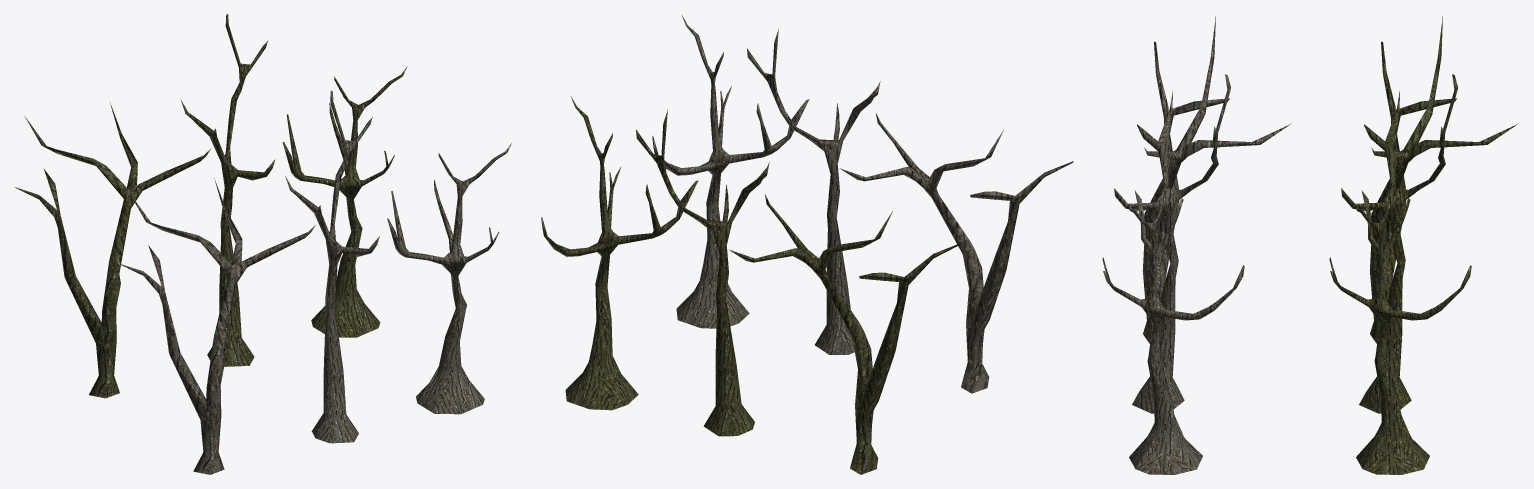
File: psx_dead_tree_pack.glb
The picture shows the model from 3 angles, left to right: view 1: azimuth 30°, elevation 25°; view 2: azimuth 150°, elevation 25°; view 3: azimuth 270°, elevation 25°; orthographic projection. The views are drawn at different scales.
Visible parts, largest first — view 1: Tree1M, Tree 1, Tree3, Tree3m, Tree2, Tree2m; view 2: Tree 1, Tree1M, Tree3m, Tree3, Tree2m, Tree2; view 3: Tree3m, Tree3, Tree2m, Tree2, Tree1M, Tree 1.
Part boxes in pixels (x1,y1,x2,y2): Tree1M: (15, 102, 211, 398); Tree 1: (119, 178, 315, 474); Tree3: (387, 143, 511, 414); Tree3m: (282, 66, 407, 337); Tree2: (285, 90, 379, 443); Tree2m: (180, 14, 275, 366); Tree 1: (839, 113, 1073, 393); Tree1M: (729, 194, 962, 474); Tree3m: (541, 96, 698, 410); Tree3: (652, 15, 809, 328); Tree2m: (636, 109, 769, 436); Tree2: (747, 28, 880, 354); Tree3m: (1329, 183, 1471, 474); Tree3: (1102, 183, 1244, 474); Tree2m: (1341, 74, 1457, 413); Tree2: (1114, 74, 1230, 413); Tree1M: (1369, 16, 1518, 343); Tree 1: (1142, 16, 1291, 343).
Size of the model in its own units: 23.17 by 18.75 by 20.22.
Materials: 6 (6 with a texture image).
